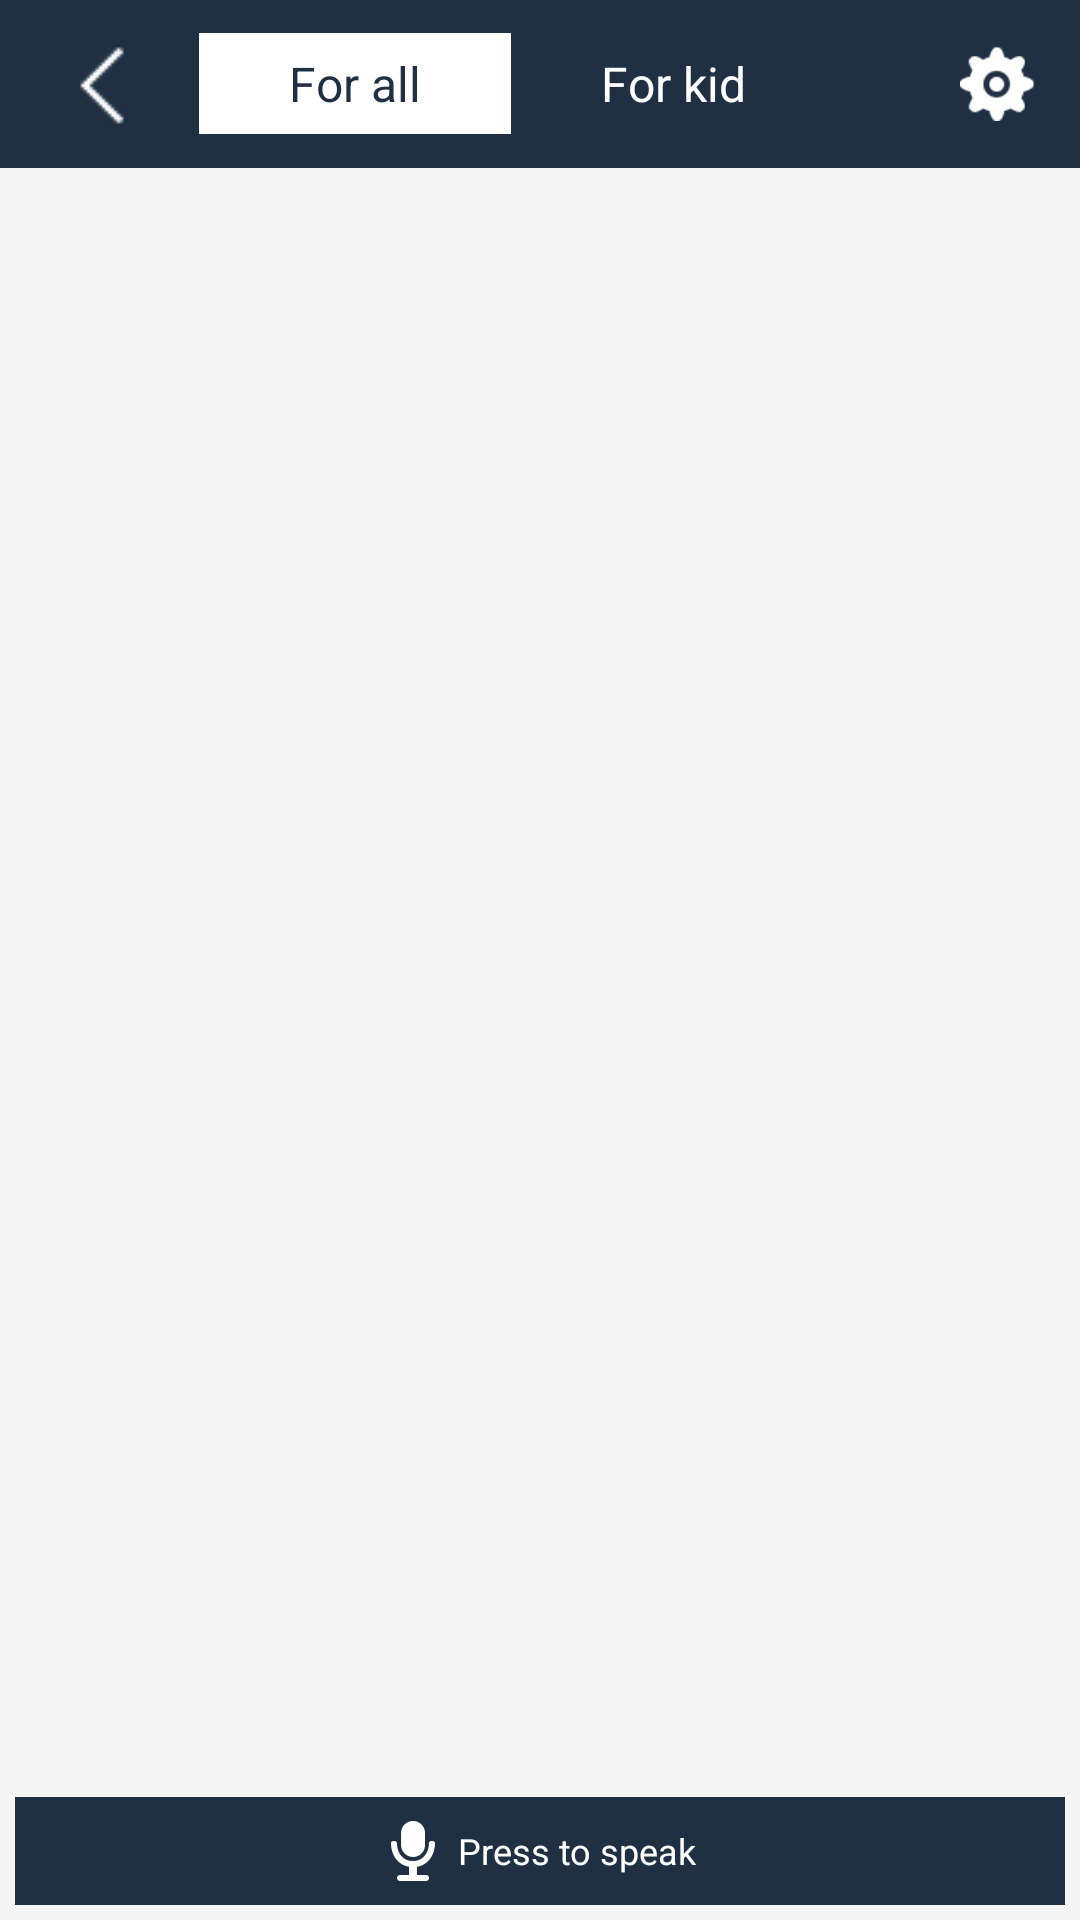

Screen size 1080w x 1920h. Icon name, then its box in pixels as (x1, y1, x2, y2):
back: (80, 47, 124, 124)
voice: (391, 1821, 435, 1881)
voice mail settings: (960, 47, 1034, 121)
